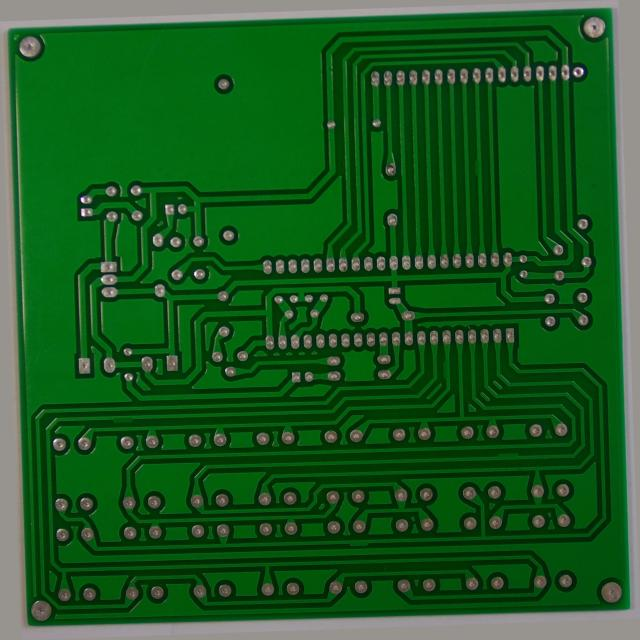spur: (95, 408, 128, 423), (495, 459, 523, 473), (340, 545, 364, 559), (441, 362, 454, 387), (481, 157, 494, 179)
